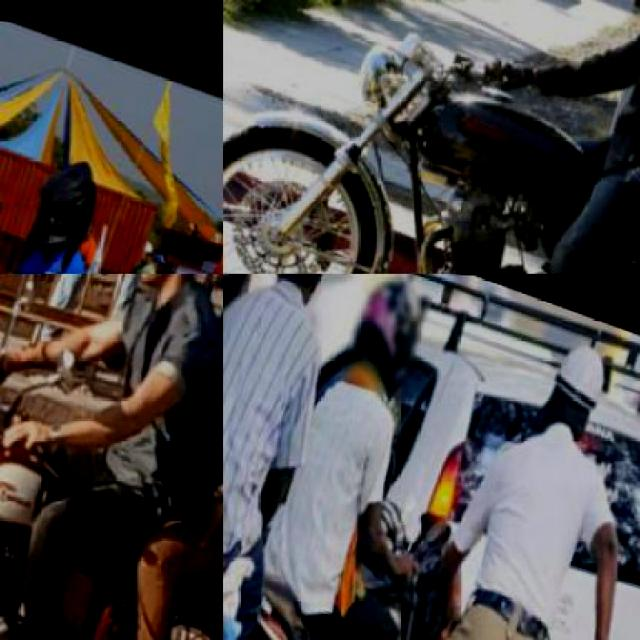With Helmet: (334, 274, 441, 403), (21, 146, 107, 251), (223, 274, 269, 332)
Without Helmet: (117, 274, 221, 308), (202, 250, 222, 272)
